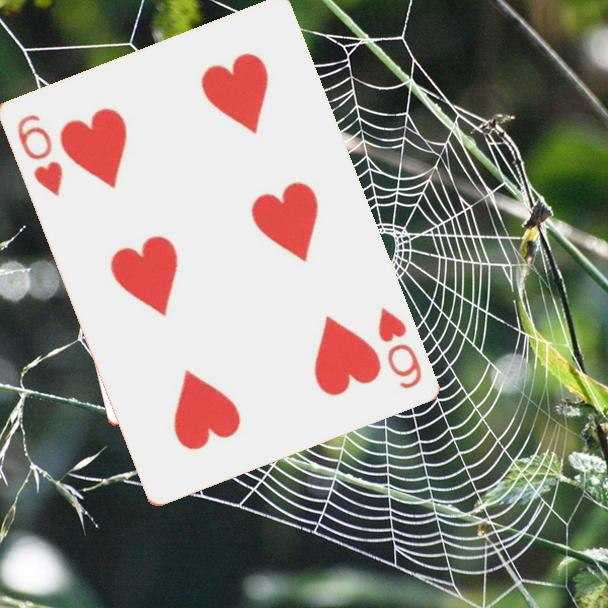h06: (13, 110, 65, 199), (373, 303, 424, 392)
